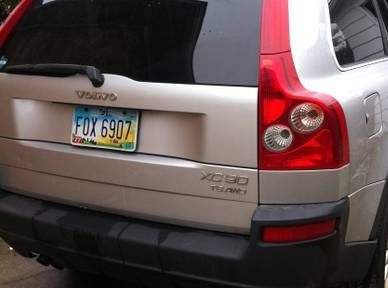volvo: (1, 1, 388, 287)
